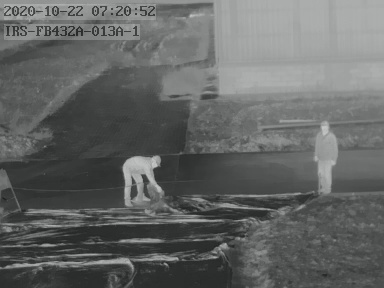person: (122, 154, 162, 206), (314, 121, 337, 193)
